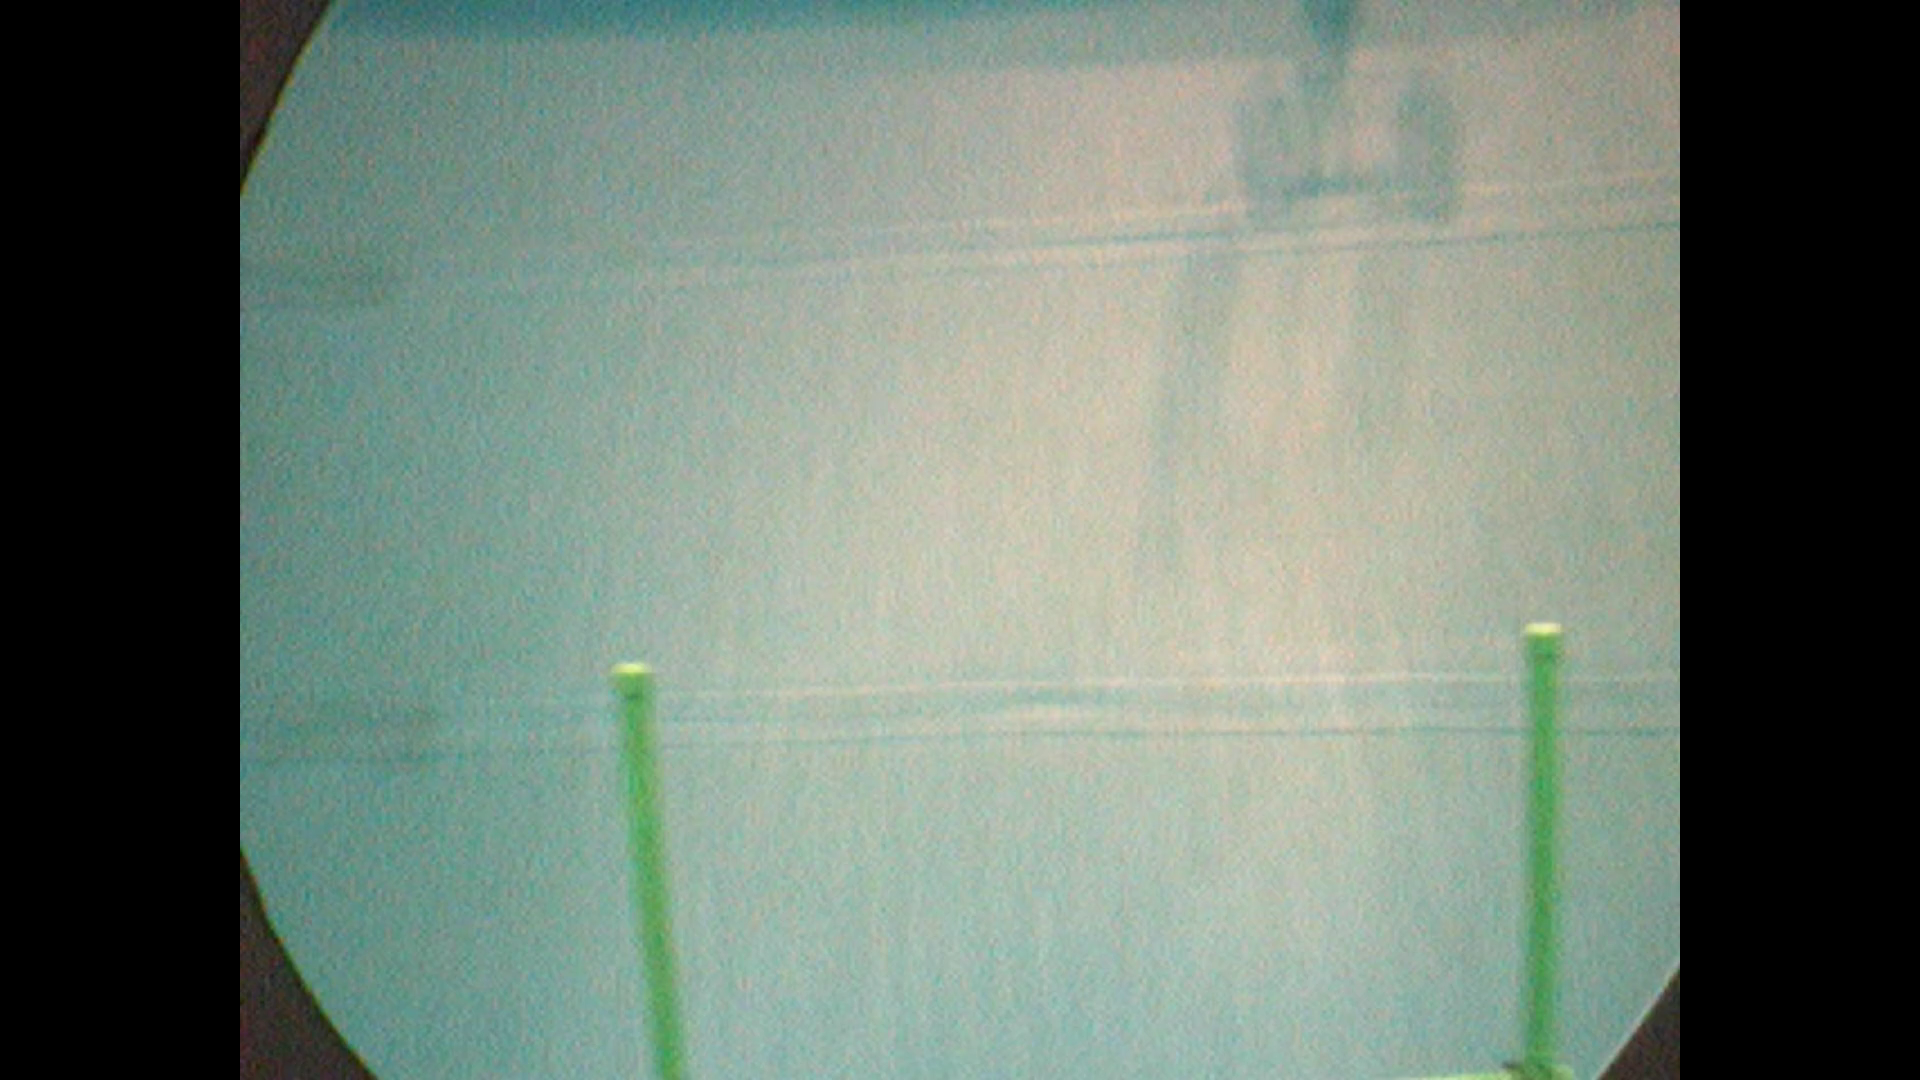gate: (607, 617, 1581, 1080)
